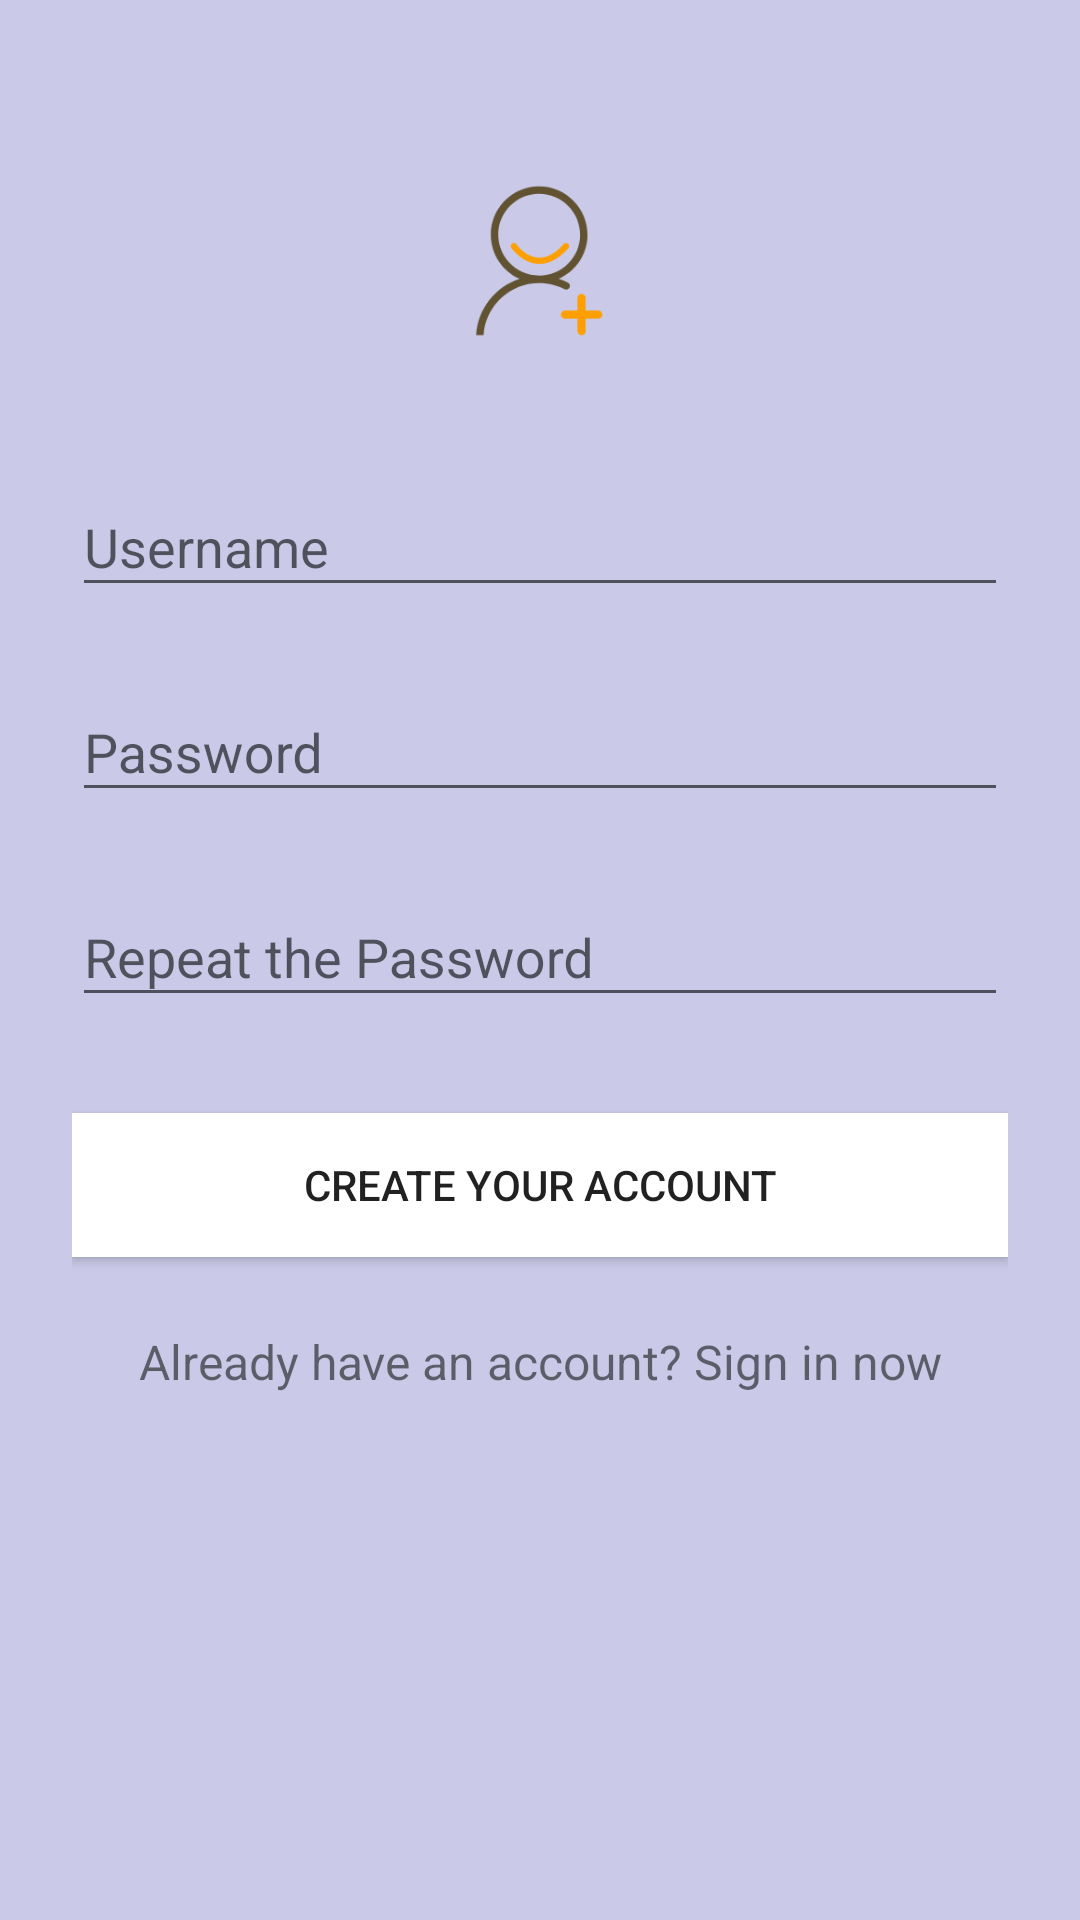

Named icons in this screenshot (1080×1920) and their centers, point (x, y):
signup: point (539, 261)
